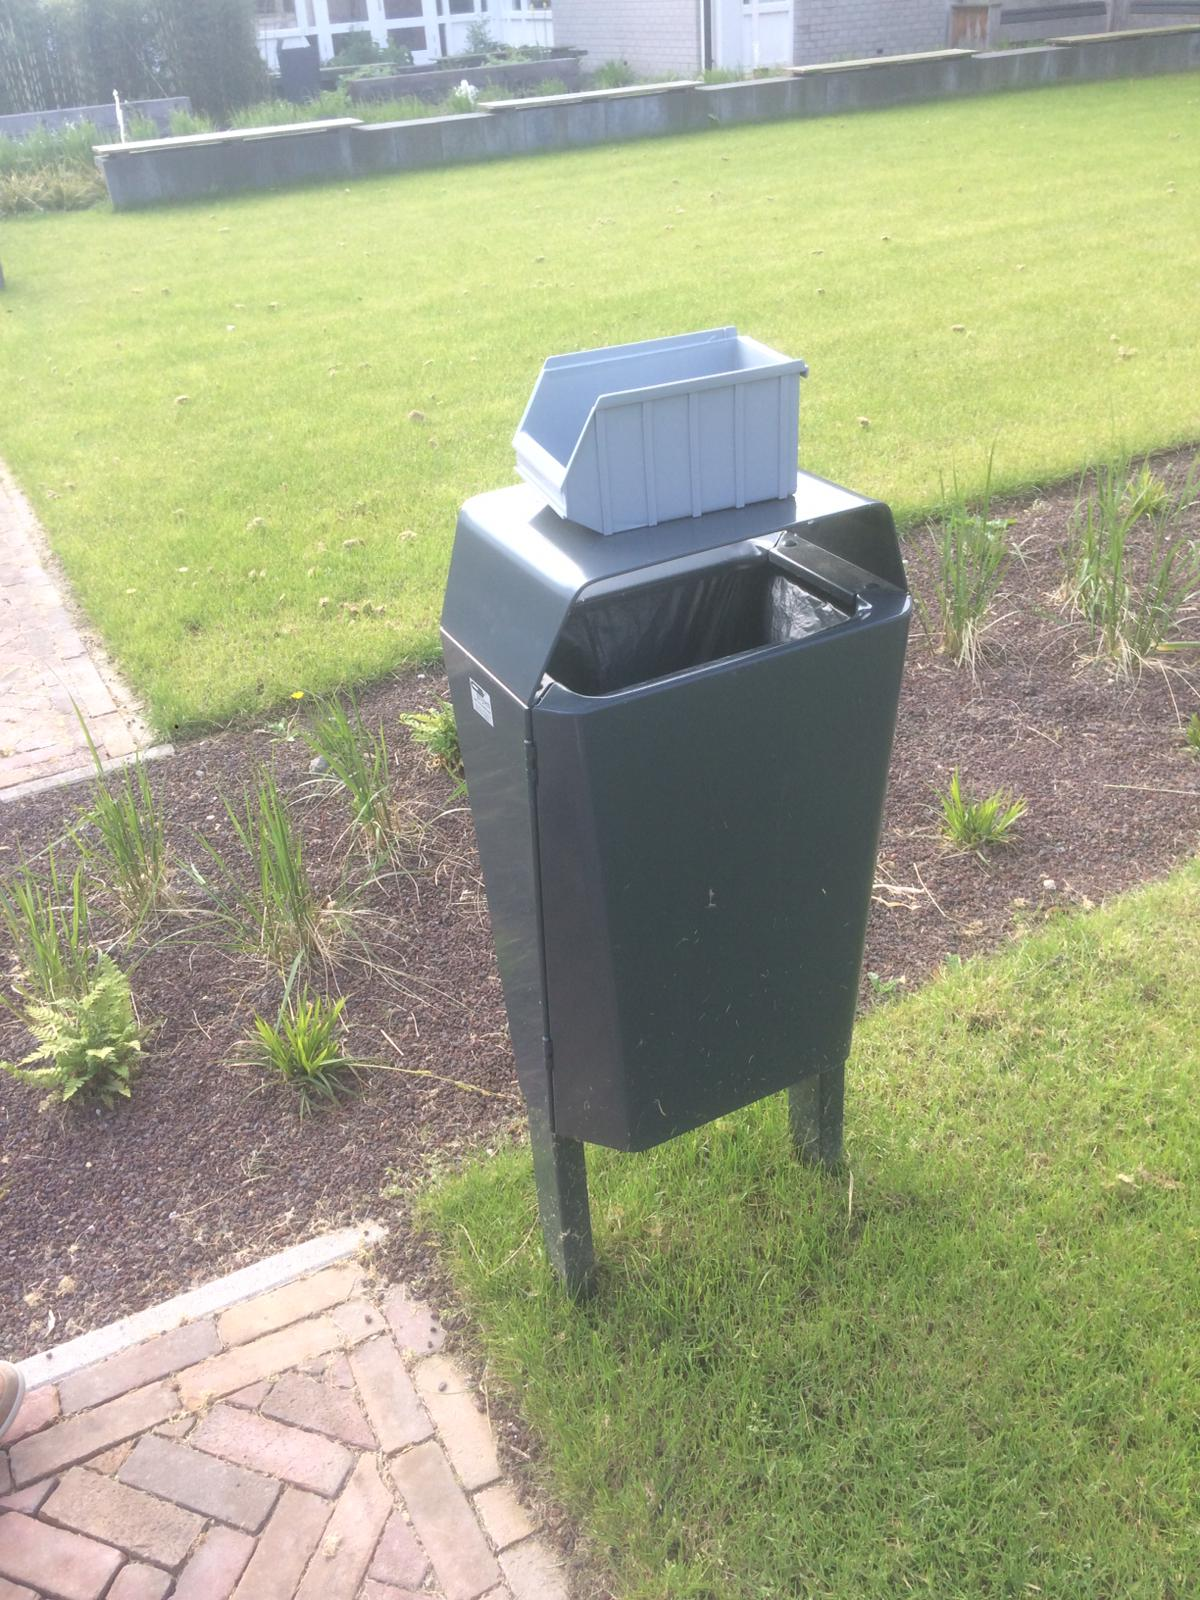tray_right: (566, 346, 816, 544)
